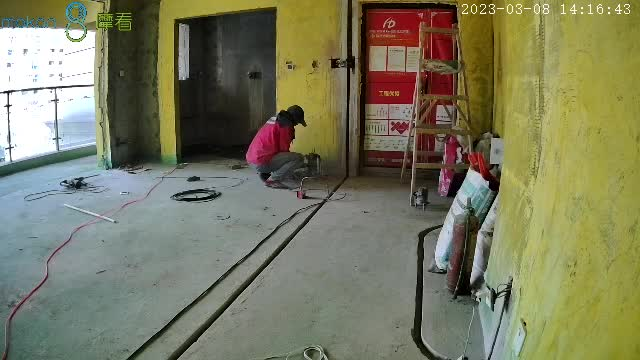people: (245, 101, 309, 190)
window: (1, 29, 98, 156)
